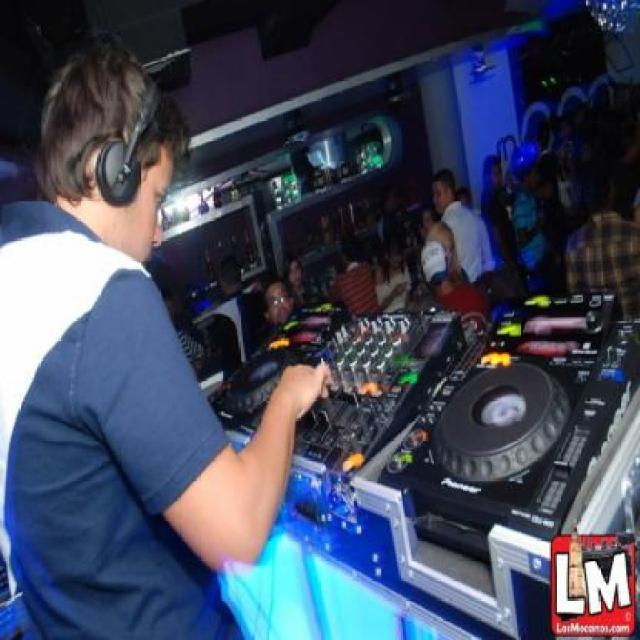earphone: (98, 67, 170, 218)
